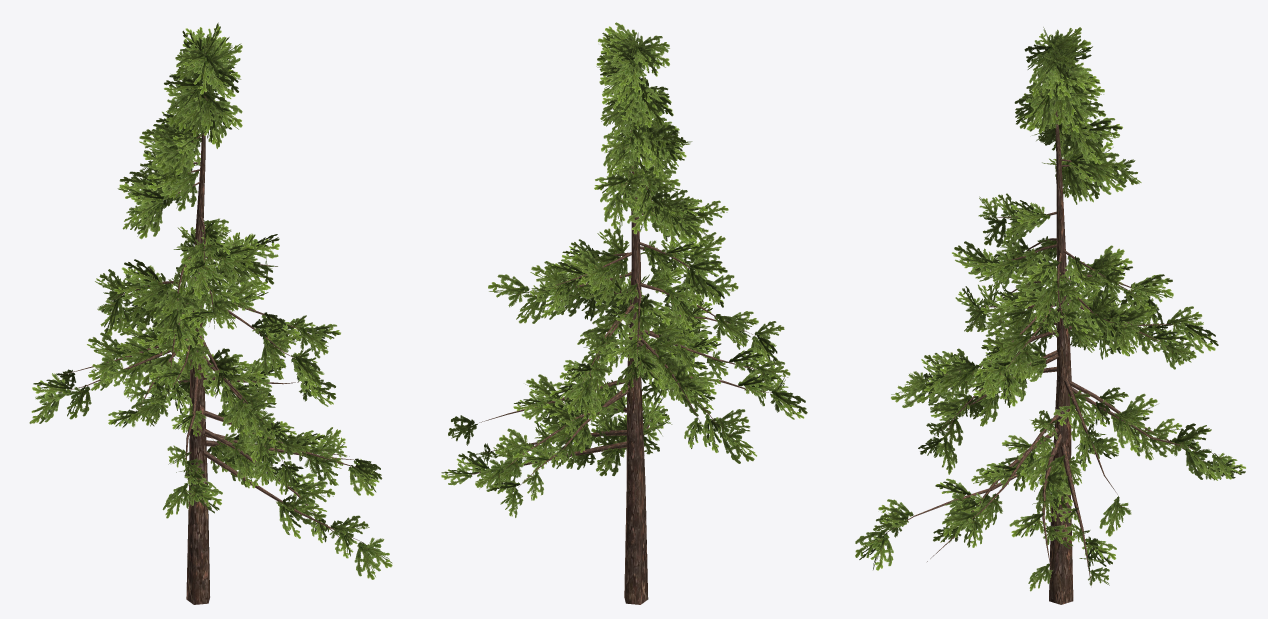
File: tree-pine.glb
The picture shows the model from 3 angles, left to right: view 1: azimuth 30°, elevation 25°; view 2: azimuth 150°, elevation 25°; view 3: azimuth 270°, elevation 25°; orthographic projection.
Parts seen in each view (by area): view 1: Tree; view 2: Tree; view 3: Tree.
Part boxes in pixels (bbox=[...]): Tree: bbox=[29, 22, 392, 604]; Tree: bbox=[441, 22, 807, 604]; Tree: bbox=[855, 27, 1245, 604].
Bounding box in the file's own units: 0.6012 × 1 × 0.6345.
Materials: 2 (2 with a texture image).
